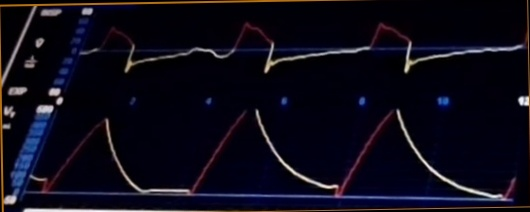Ineffective_effort Flow: (79, 20, 525, 85)
Ineffective_effort Volume: (33, 110, 518, 205)
